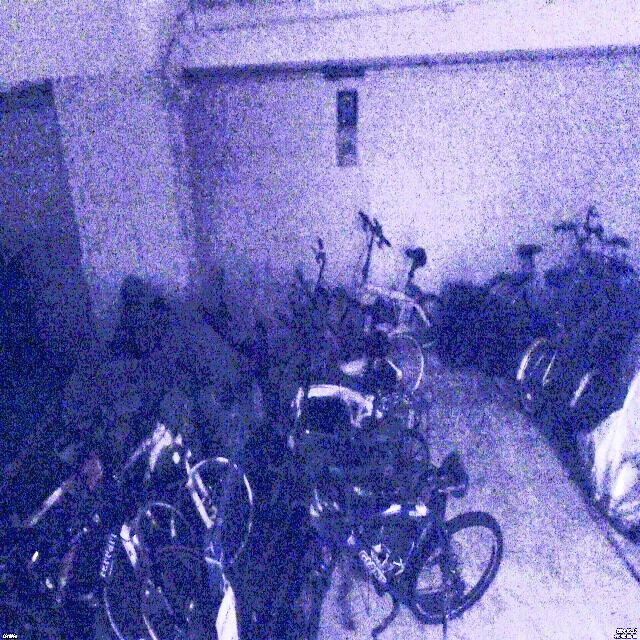bike: (296, 452, 502, 640), (27, 418, 253, 575), (337, 213, 443, 368)
